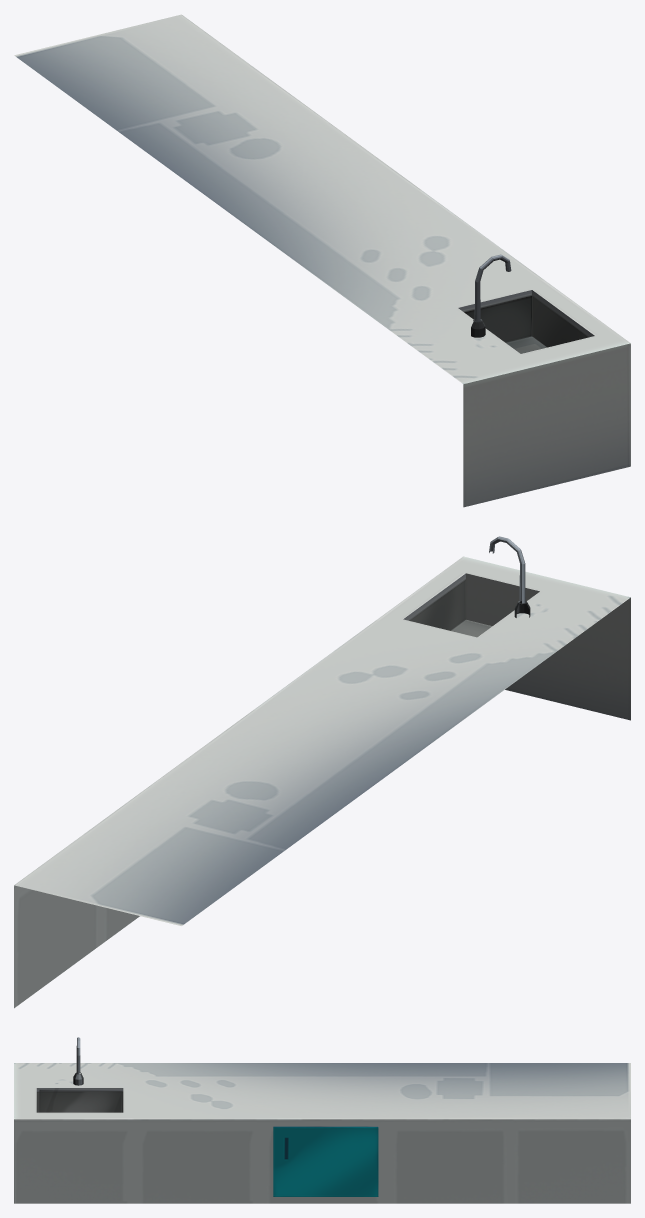
Rendered from Tx_props_counter_8.fbx.
3 renders of one model, top to bottom at view 1: azimuth 30°, elevation 25°; view 2: azimuth 150°, elevation 25°; view 3: azimuth 270°, elevation 25°, orthographic. The views are drawn at different scales.
Parts seen in each view (by area): view 1: Tx_props_chair_7; view 2: Tx_props_chair_7; view 3: Tx_props_chair_7.
Part boxes in pixels (x1,y1,x2,y2): Tx_props_chair_7: (14, 14, 630, 507); Tx_props_chair_7: (14, 536, 630, 1008); Tx_props_chair_7: (14, 1037, 630, 1203).
Bounding box in the file's own units: 4.83 × 5.35 × 22.04.
